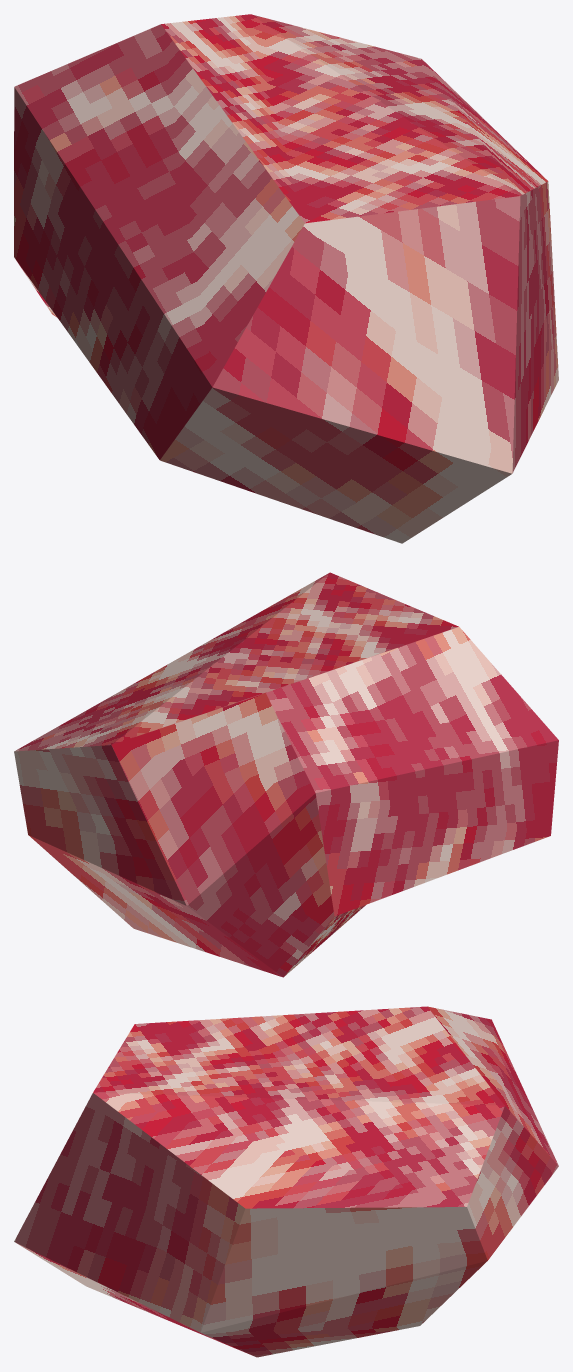
The model's file is owlmeat.glb.
3 views of the same model, one above another, from view 1: azimuth 30°, elevation 25°; view 2: azimuth 150°, elevation 25°; view 3: azimuth 270°, elevation 25° (orthographic). The views are drawn at different scales.
Parts seen in each view (by area): view 1: owlmeat; view 2: owlmeat; view 3: owlmeat.
Boxes of the visible parts, x1,y1,x2,y2 form: owlmeat: [14, 14, 558, 543]; owlmeat: [14, 572, 558, 977]; owlmeat: [14, 1006, 558, 1357].
Size of the model in its own units: 1.06 by 0.8565 by 1.42.
Materials: 1 (1 with a texture image).
